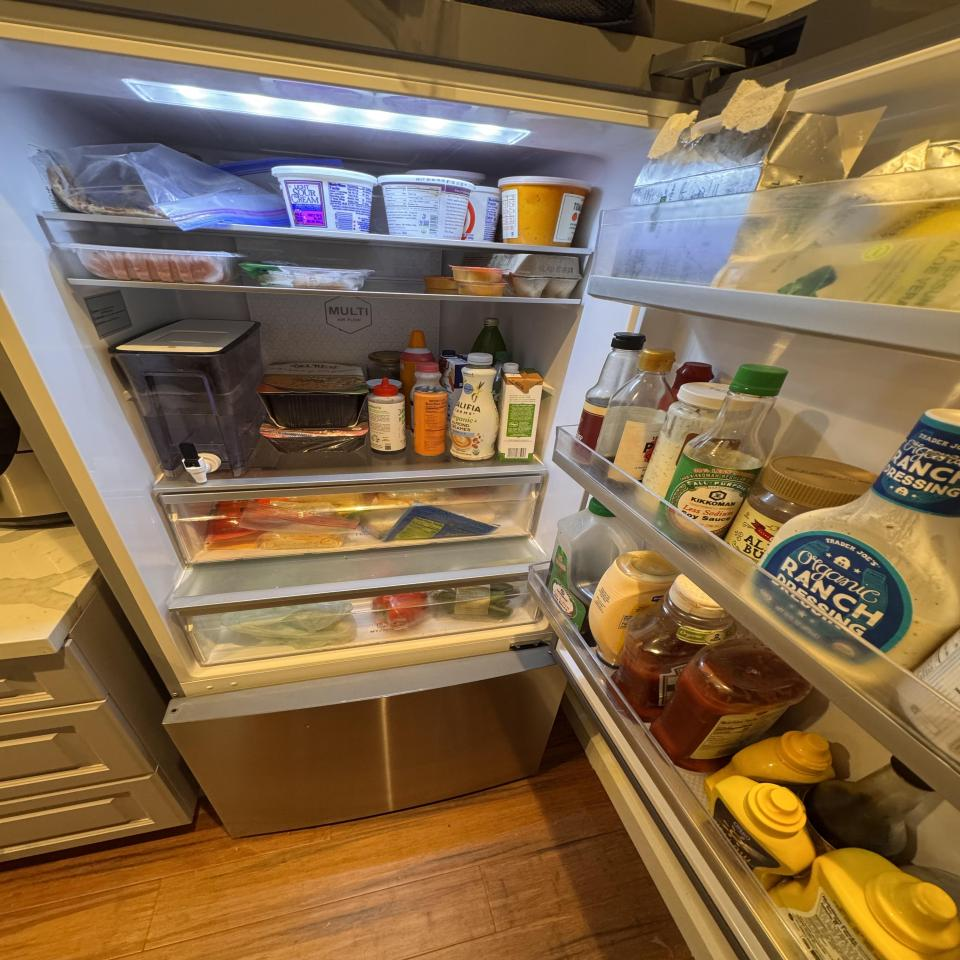Carne pollo: (66, 241, 244, 283)
Huevos: (490, 253, 582, 298)
Pepino: (434, 583, 518, 621)
Yogur: (272, 165, 378, 234)
